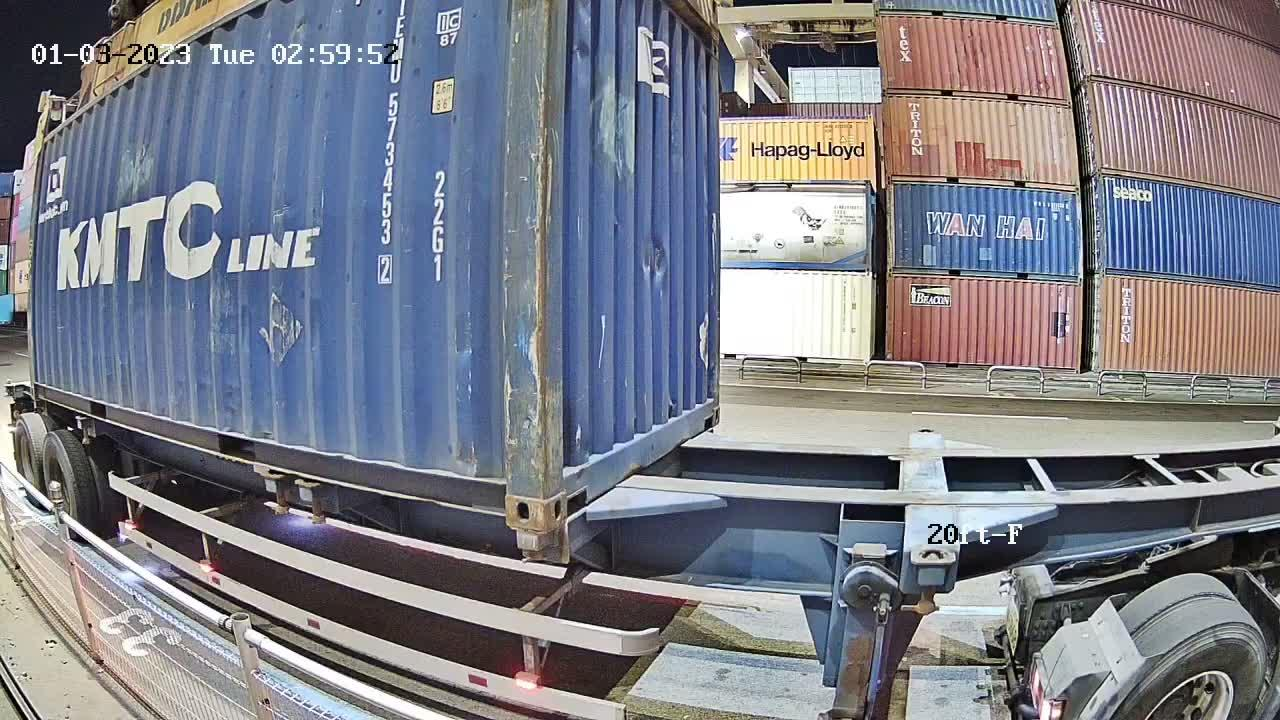Chassis: (510, 527, 558, 563)
Hole_L: (540, 437, 595, 531)
Hole_R: (470, 445, 543, 533), (697, 385, 721, 433)
Tire: (44, 435, 80, 532), (14, 418, 42, 501)
